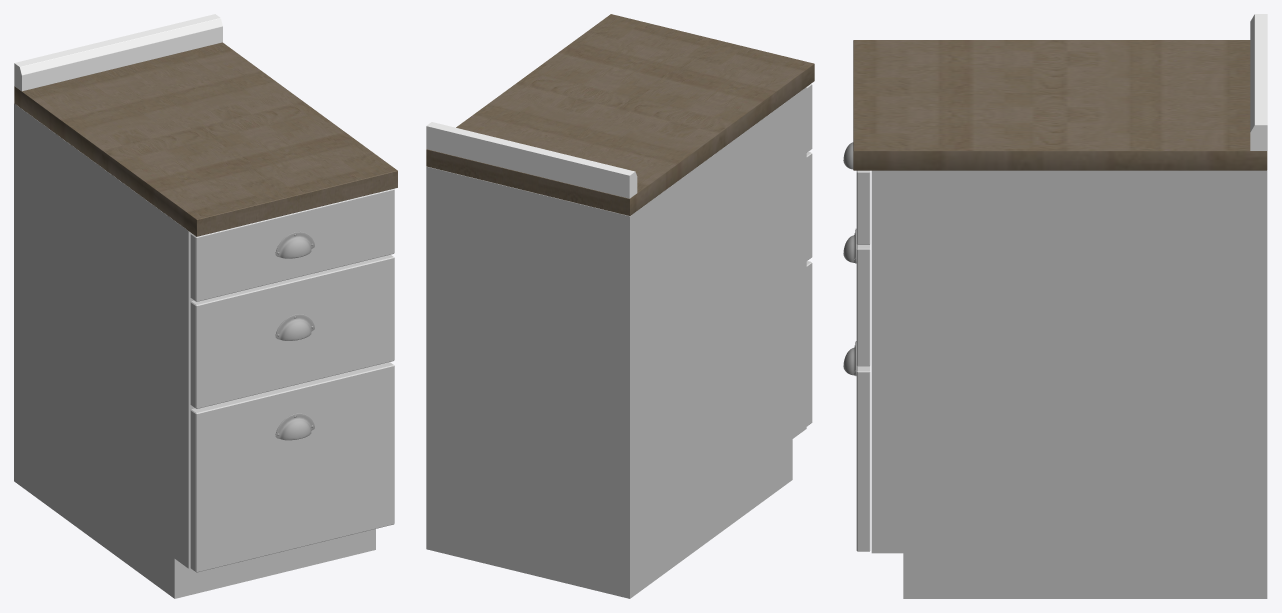
The model's file is blendswap-cc-by-kitchenDrawersCabinet.glb.
The picture shows the model from 3 angles, left to right: view 1: azimuth 30°, elevation 25°; view 2: azimuth 150°, elevation 25°; view 3: azimuth 270°, elevation 25°; orthographic projection. The views are drawn at different scales.
Parts seen in each view (by area): view 1: Base-unit-Box-Right_Cube.002, Door-and-Drawers-Right.001_Cube.007, Worktop-Right_Cube.010, Plane.014_Plane.005, Sphere.021_Sphere.005, Cup-Handle-Right_Sphere.009; view 2: Base-unit-Box-Right_Cube.002, Worktop-Right_Cube.010, Plane.014_Plane.005, Door-and-Drawers-Right.001_Cube.007; view 3: Base-unit-Box-Right_Cube.002, Worktop-Right_Cube.010, Door-and-Drawers-Right.001_Cube.007, Plane.014_Plane.005, Sphere.021_Sphere.005.
Part boxes in pixels (x1,y1,x2,y2): Base-unit-Box-Right_Cube.002: (14, 103, 375, 598); Door-and-Drawers-Right.001_Cube.007: (190, 189, 394, 572); Worktop-Right_Cube.010: (14, 42, 397, 236); Plane.014_Plane.005: (14, 14, 222, 91); Sphere.021_Sphere.005: (275, 231, 314, 340); Cup-Handle-Right_Sphere.009: (275, 413, 314, 440); Base-unit-Box-Right_Cube.002: (426, 87, 806, 598); Worktop-Right_Cube.010: (426, 14, 814, 215); Plane.014_Plane.005: (426, 122, 637, 198); Door-and-Drawers-Right.001_Cube.007: (806, 83, 812, 426); Base-unit-Box-Right_Cube.002: (871, 170, 1267, 598); Worktop-Right_Cube.010: (853, 40, 1267, 170); Door-and-Drawers-Right.001_Cube.007: (856, 170, 870, 551); Plane.014_Plane.005: (1250, 14, 1267, 150); Sphere.021_Sphere.005: (843, 142, 856, 263).
Size of the model in its own units: 44.23 by 87.8 by 71.22.
Materials: 4 (1 with a texture image).
